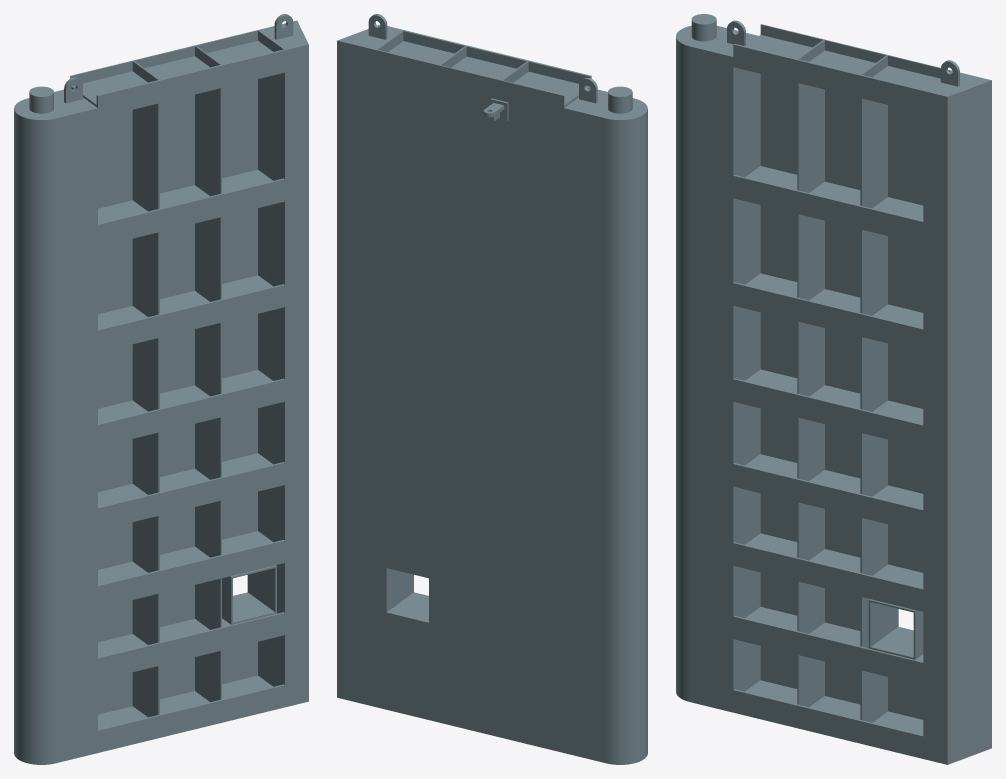
The model's file is step_06.glb.
3 renders of one model, left to right at view 1: azimuth 30°, elevation 25°; view 2: azimuth 150°, elevation 25°; view 3: azimuth 330°, elevation 25°, orthographic.
Parts seen in each view (by area): view 1: part__heel post, part__skin plate, part__mitre post, part__stiffener 1, part__stiffener 2, part__girder 8, part__girder 3, part__girder 6, part__girder 4, part__girder 5, part__girder 1, part__girder 7 (+2 smaller); view 2: part__skin plate, part__heel post, part__mitre post, part__girder 8, part__paddle culvert; view 3: part__heel post, part__mitre post, part__skin plate, part__stiffener 1, part__stiffener 2, part__girder 8, part__girder 3, part__girder 1, part__girder 4, part__girder 6, part__girder 5, part__girder 7 (+2 smaller).
Boxes of the visible parts, <box> form: part__heel post: <box>14,86,97,764</box>; part__skin plate: <box>70,30,257,714</box>; part__mitre post: <box>257,20,308,707</box>; part__stiffener 1: <box>132,61,159,717</box>; part__stiffener 2: <box>195,45,221,701</box>; part__girder 8: <box>71,41,284,117</box>; part__girder 3: <box>98,531,284,608</box>; part__girder 6: <box>98,275,284,352</box>; part__girder 4: <box>98,453,284,530</box>; part__girder 5: <box>98,370,284,447</box>; part__girder 1: <box>98,675,284,752</box>; part__girder 7: <box>98,169,284,246</box>; part__skin plate: <box>377,50,564,752</box>; part__heel post: <box>564,86,647,764</box>; part__mitre post: <box>337,24,404,707</box>; part__girder 8: <box>388,30,591,107</box>; part__paddle culvert: <box>387,568,428,621</box>; part__heel post: <box>676,14,760,712</box>; part__mitre post: <box>923,70,991,764</box>; part__skin plate: <box>760,24,950,719</box>; part__stiffener 1: <box>797,40,824,707</box>; part__stiffener 2: <box>860,55,887,722</box>; part__girder 8: <box>733,35,939,113</box>; part__girder 3: <box>733,533,923,611</box>; part__girder 1: <box>733,680,923,758</box>; part__girder 4: <box>733,454,923,532</box>; part__girder 6: <box>733,273,923,351</box>; part__girder 5: <box>733,369,923,447</box>; part__girder 7: <box>733,166,923,244</box>.
Bounding box in the file's own units: 2760 × 6110 × 670.
